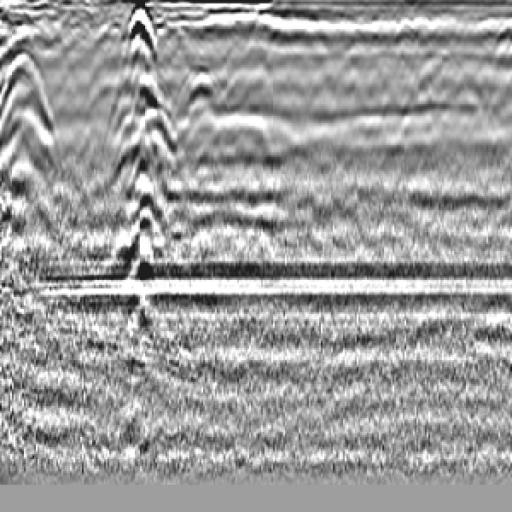metalic: (109, 14, 178, 409)
nonmetalic: (157, 49, 254, 207), (1, 42, 61, 233)
